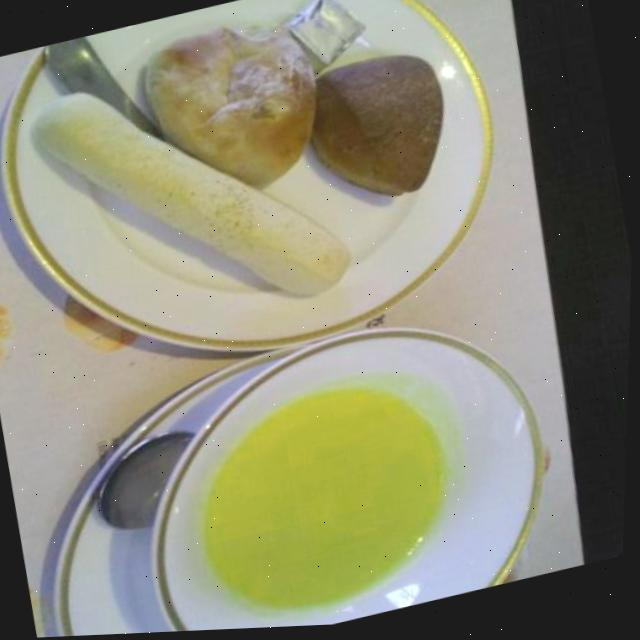汤锅炖物: (116, 287, 580, 635)
